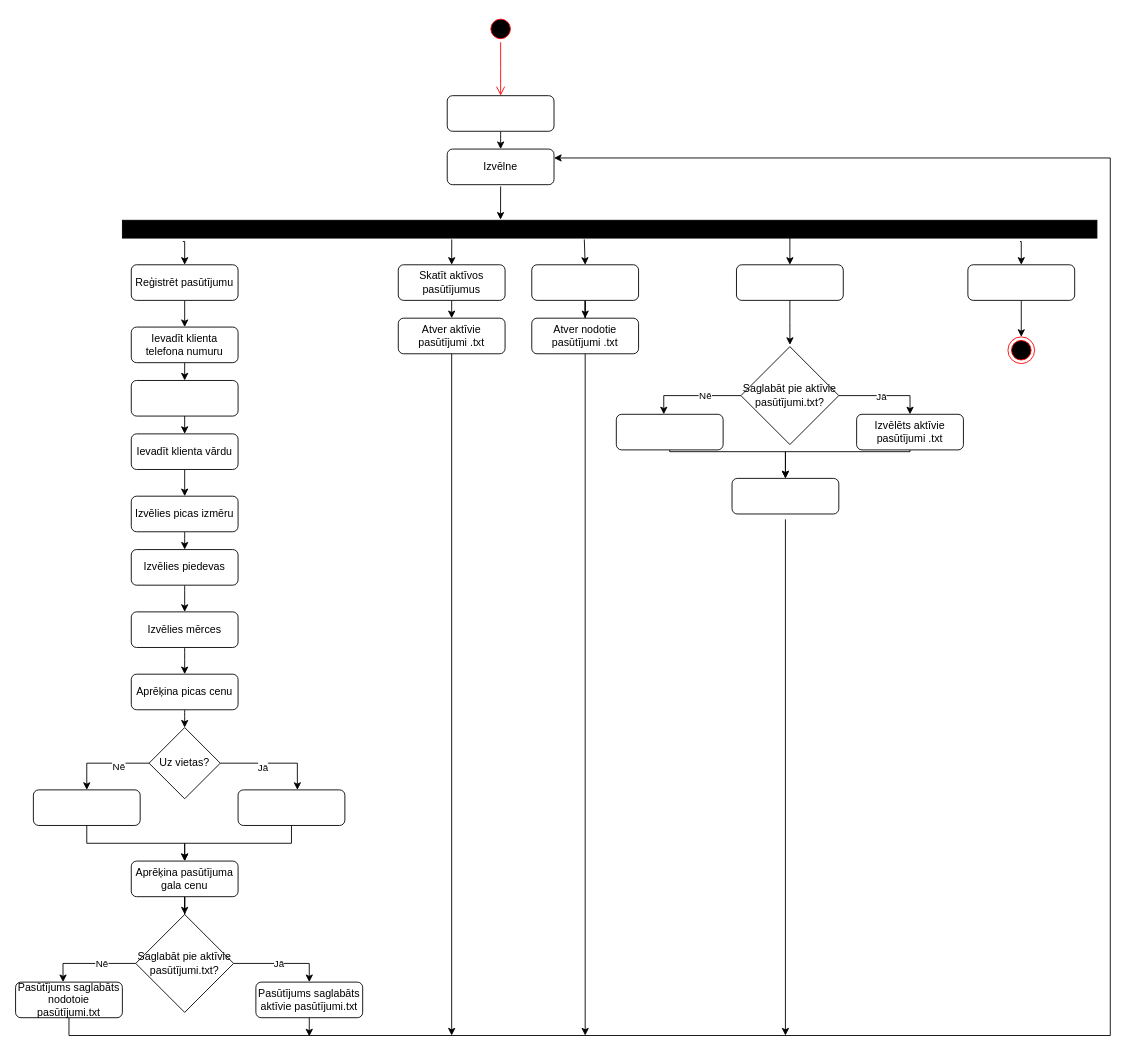
This 1133x1059 diagram has some shape labels left out. Each missing label, with the centre of its shape:
Ar piegādes maksu: (86,807)
Atvērt programmu: (500,113)
Bez piegādes maksas: (291,807)
Ievadīt klienta adresi: (184,398)
Iziet no programmas: (1021,282)
Izvēlēts nodotie pasūtījumi.txt: (669,431)
Saglabāt pasūtījumu .txt failā: (789,282)
Saglabāts .txt failā: (785,495)
Skatīt nodotos pasūtījumus: (585,282)
